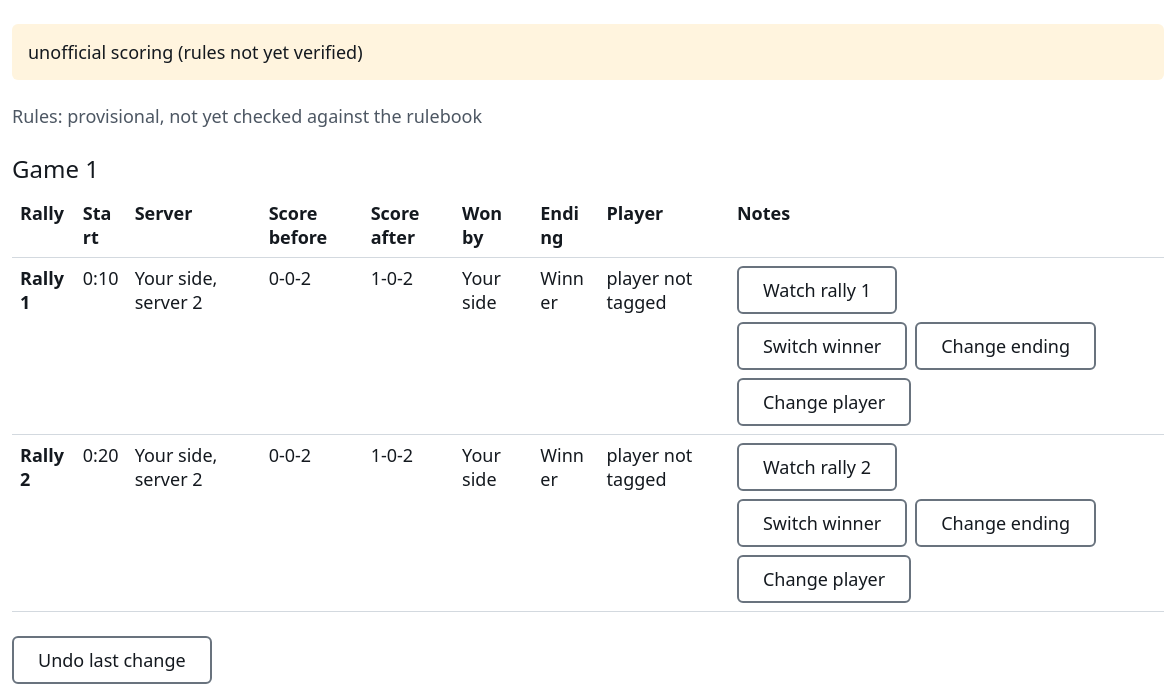
Test case: ScoreSheetView undo (ST-031) › nothing to undo says so and changes nothing
Step 1. Click the button "Undo last change" → (112, 660), box [12,636,212,684]
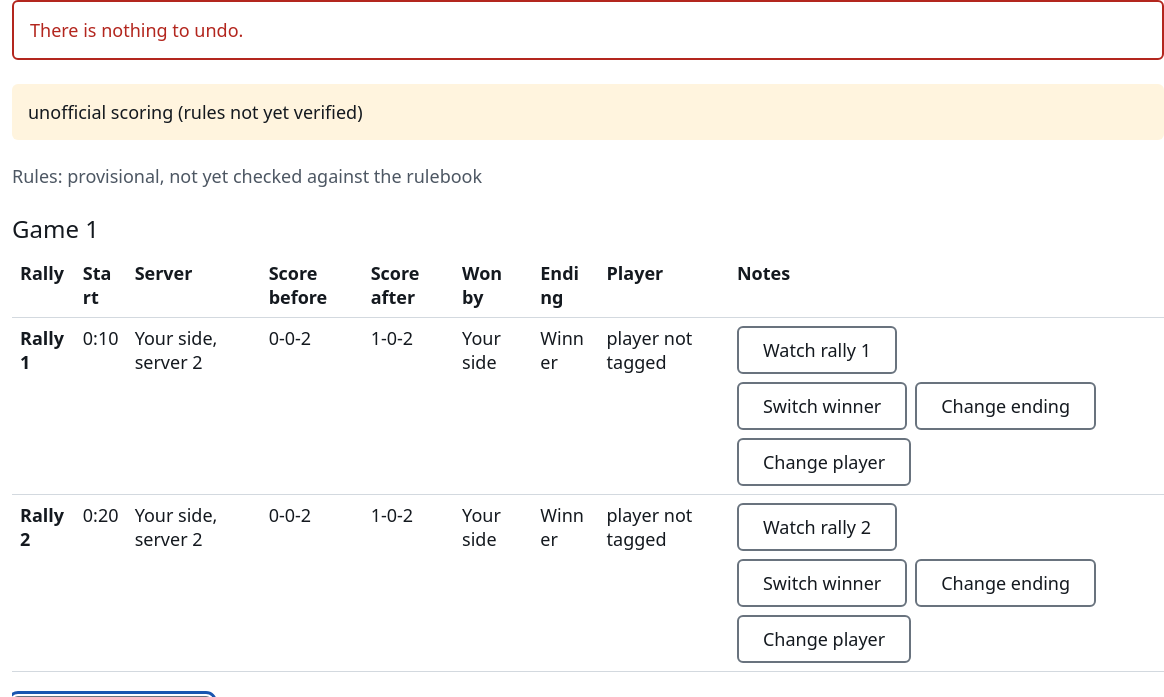
Expected: the message reads "There is nothing to undo.", [30,18,243,42]
